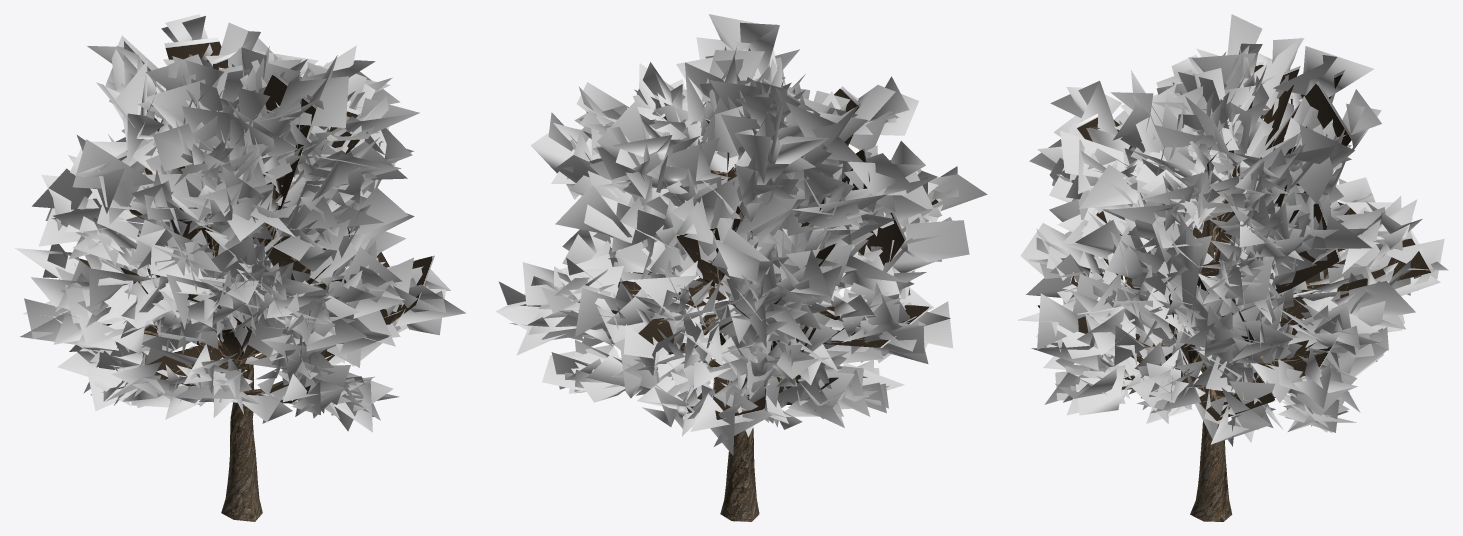
Rendered from tree.fbx.
The picture shows the model from 3 angles, left to right: view 1: azimuth 30°, elevation 25°; view 2: azimuth 150°, elevation 25°; view 3: azimuth 270°, elevation 25°; orthographic projection. The views are drawn at different scales.
Parts seen in each view (by area): view 1: Leaf_6, Bark_9.001; view 2: Leaf_6, Bark_9.001; view 3: Leaf_6, Bark_9.001.
Part boxes in pixels (x1,y1,x2,y2): Leaf_6: (15, 14, 465, 432); Bark_9.001: (218, 201, 290, 521); Leaf_6: (495, 14, 987, 455); Bark_9.001: (713, 283, 759, 521); Leaf_6: (1017, 14, 1448, 446); Bark_9.001: (1183, 213, 1232, 521).
Bounding box in the file's own units: 5641 × 6080 × 5281.
